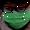with_mask: (2, 2, 30, 30)
